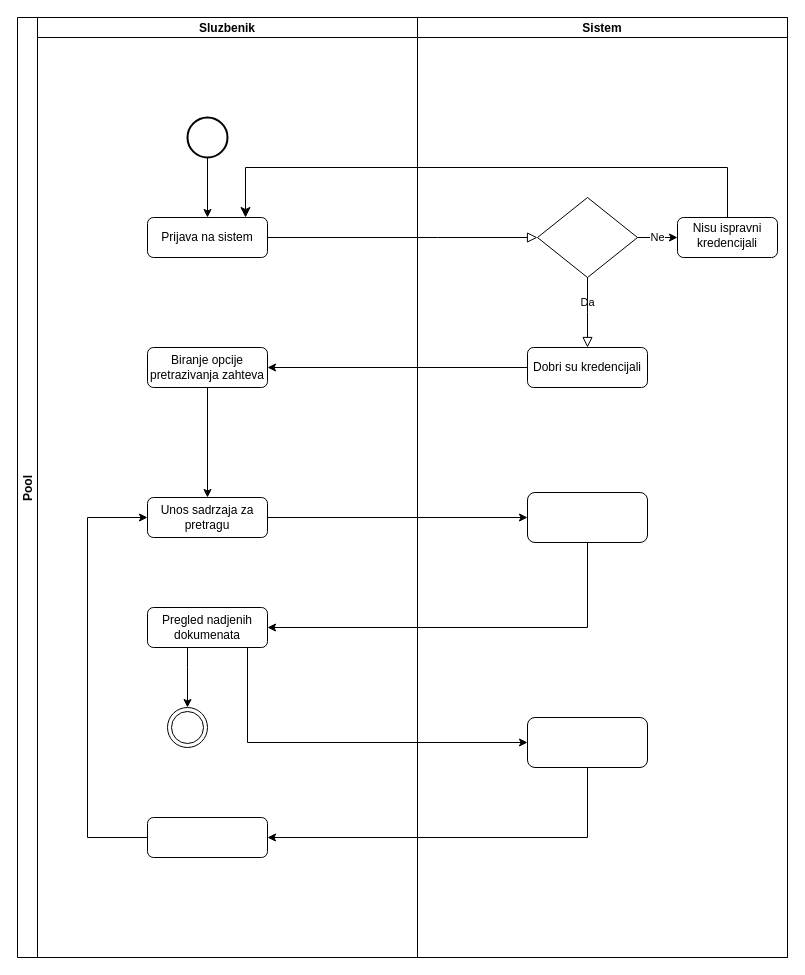
Image size: 805x975. Some labels were removed from this diagram. The shapes that lost their labels are listed below. From the top down, each one's centre as x and y in pixels, then its label:
pixel 587 237: ispravni kredencijali?
pixel 587 517: Nalazenje rezultata na osnovu unosa pretrage
pixel 587 742: Omogucivanje referenciranja dokumenata
pixel 207 837: Kreiranje reference na dokumente
